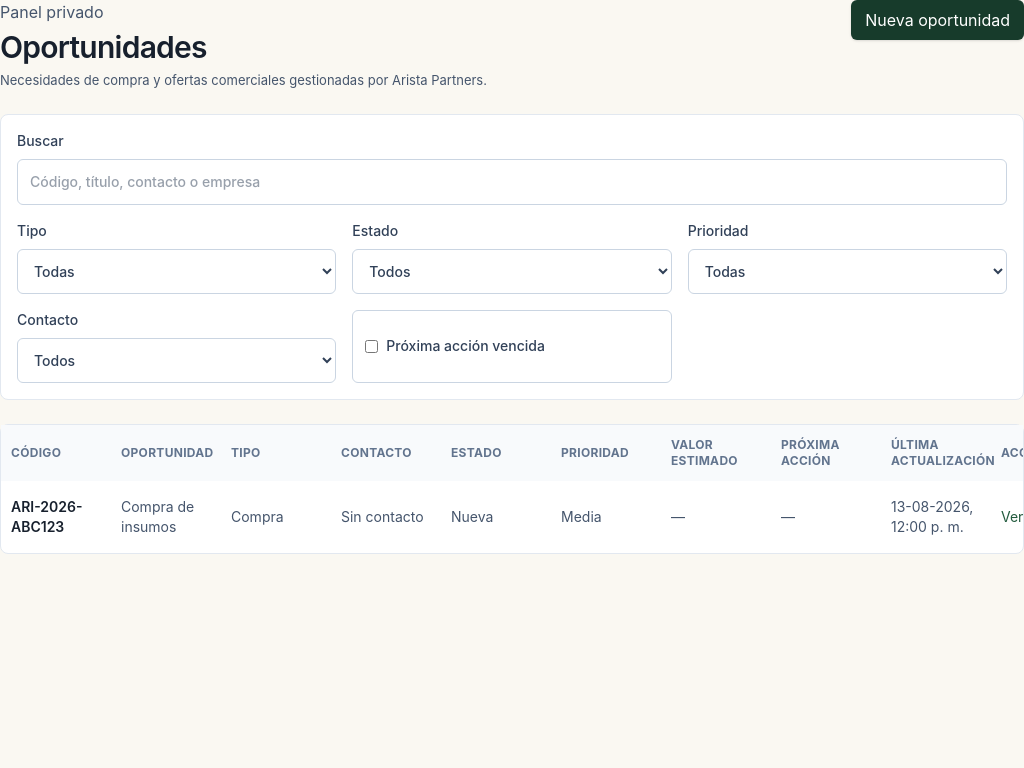
it: AdminOpportunities responsive layout › opens opportunity detail in a modal without changing the list URL
Click the button "Ver": (1012, 517) [1001, 507, 1023, 527]
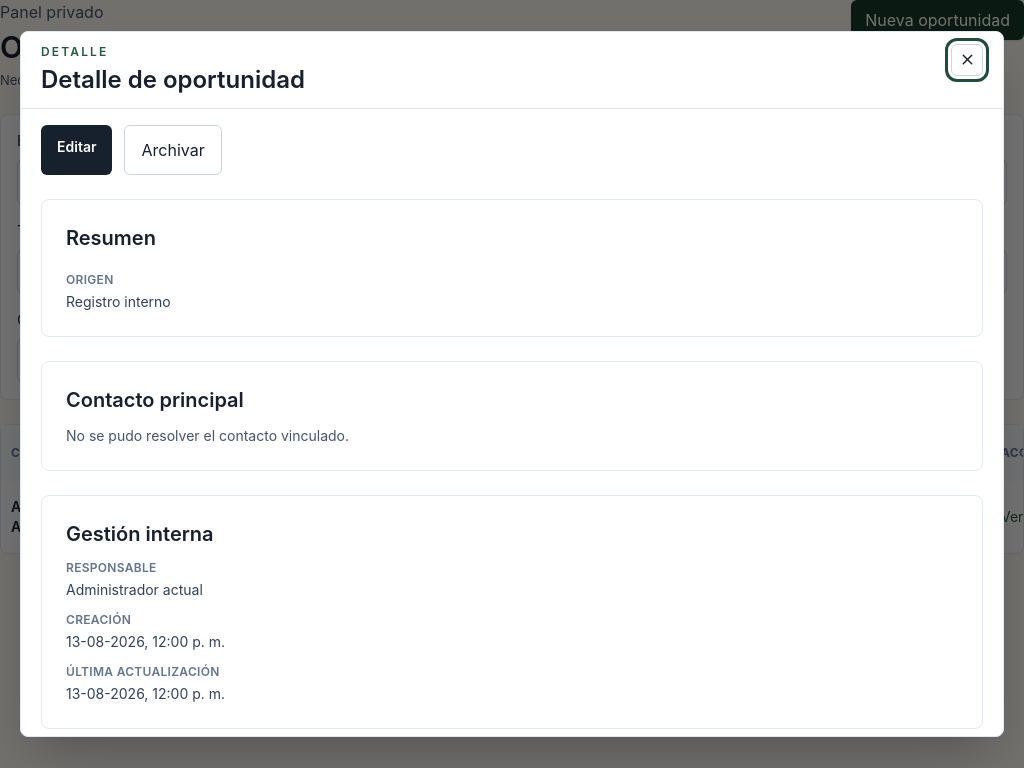
Check: the dialog shows "Detalle de oportunidad", box [41, 65, 305, 94]
Press Escape
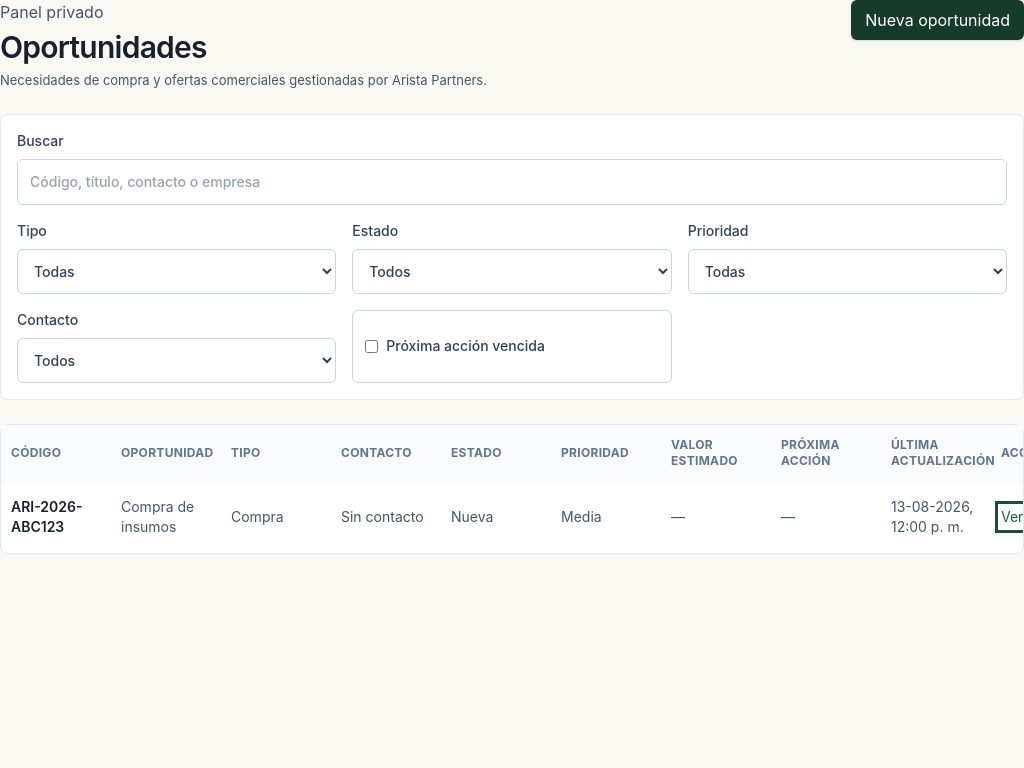
Check: the dialog is gone
